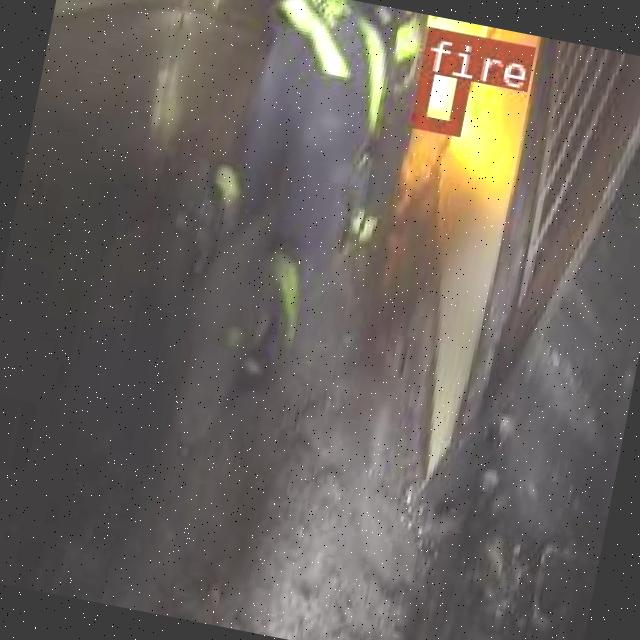fire: (410, 25, 476, 133)
